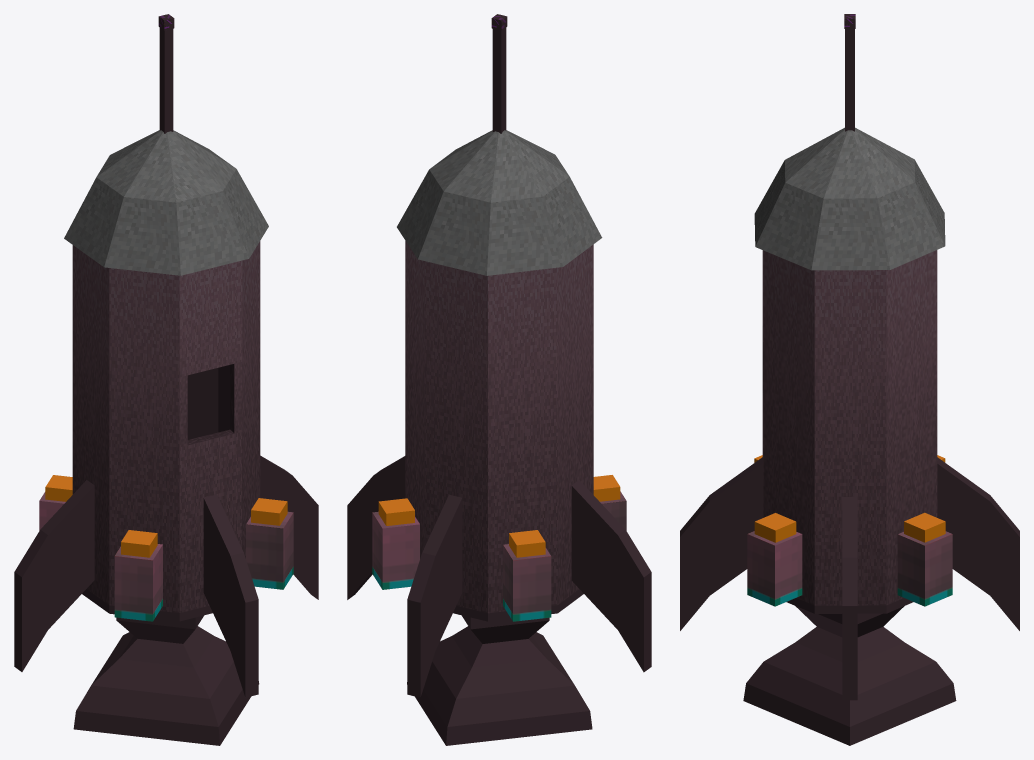
File: tier8rocket.obj
The picture shows the model from 3 angles, left to right: view 1: azimuth 30°, elevation 25°; view 2: azimuth 150°, elevation 25°; view 3: azimuth 270°, elevation 25°; orthographic projection.
Visible parts, largest first — view 1: Rocket, NoseCone, Boosters; view 2: Rocket, NoseCone, Boosters; view 3: Rocket, NoseCone, Boosters.
Part boxes in pixels (x1=…): Rocket: x1=14, y1=27, x2=318, y2=745; NoseCone: x1=64, y1=130, x2=268, y2=275; Boosters: x1=39, y1=475, x2=293, y2=621; Rocket: x1=347, y1=27, x2=651, y2=745; NoseCone: x1=397, y1=130, x2=602, y2=275; Boosters: x1=372, y1=475, x2=626, y2=621; Rocket: x1=680, y1=29, x2=1019, y2=745; NoseCone: x1=754, y1=127, x2=945, y2=270; Boosters: x1=747, y1=455, x2=952, y2=606.
Size of the model in its own units: 3.61 by 8.02 by 3.61.
